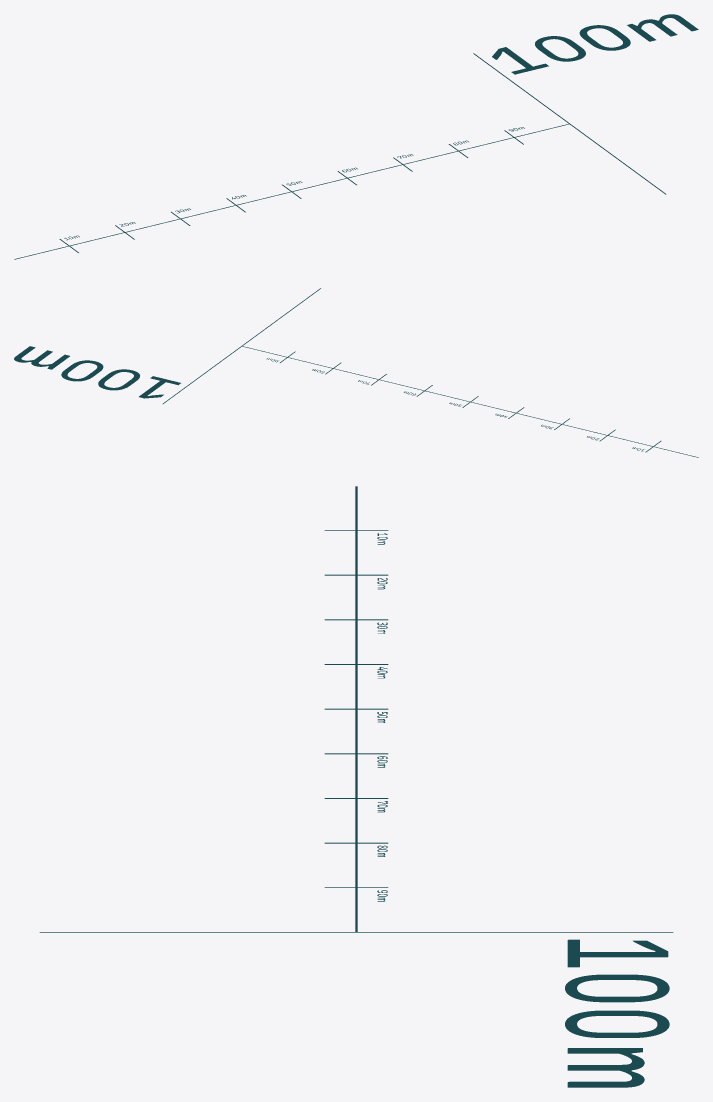
3 renders of one model, top to bottom at view 1: azimuth 30°, elevation 25°; view 2: azimuth 150°, elevation 25°; view 3: azimuth 270°, elevation 25°, orthographic. The views are drawn at different scales.
Visible parts, largest first — view 1: Text.009, Plane; view 2: Text.009, Plane; view 3: Text.009, Plane.
Part boxes in pixels (x1,y1,x2,y2): Text.009: [492, 14, 698, 74]; Plane: [14, 123, 569, 259]; Text.009: [14, 346, 180, 398]; Plane: [242, 346, 698, 457]; Text.009: [565, 939, 669, 1087]; Plane: [355, 486, 357, 932].
Bounding box in the file's own units: 13.47 × 0 × 6.
